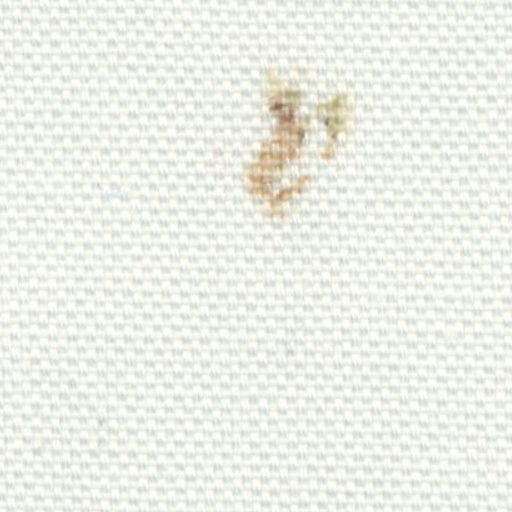WuZi: (228, 46, 374, 228)
